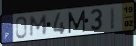0: (15, 15, 28, 40)
3: (89, 7, 104, 32)
4: (52, 12, 67, 36)
I: (109, 5, 116, 31)
M: (68, 9, 86, 35), (29, 14, 48, 38)
